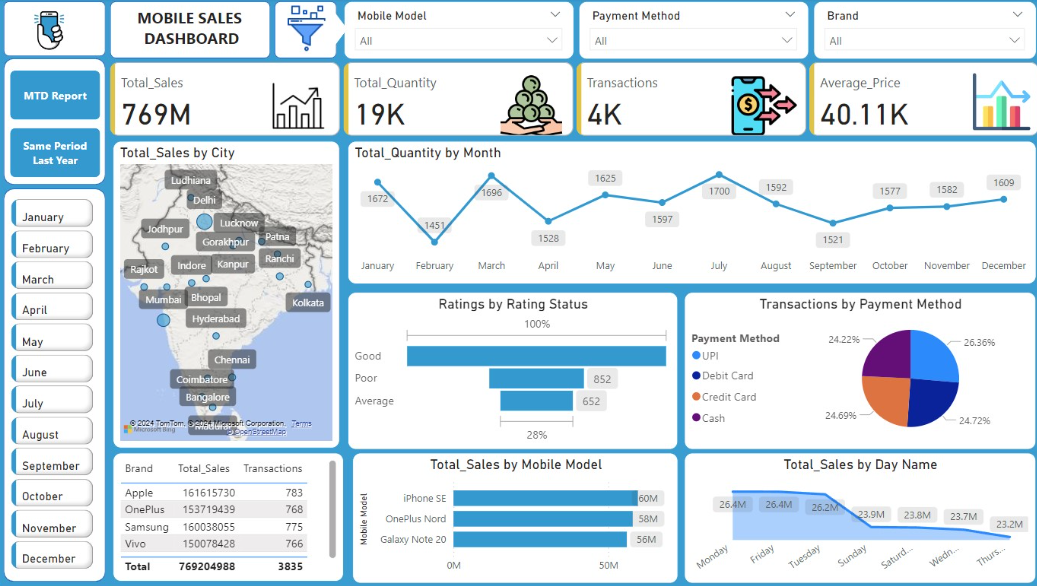

Layout of this report page (visuals, bound fields, positions):
{"tool":"powerbi","page":{"name":"Dashboard","canvas":[1280,720],"ordinal":0},"visuals":[{"type":"shape","box":[11,244.3,123.5,465.2],"z":0},{"type":"shape","box":[10.8,12.1,124.1,54],"z":1000},{"type":"image","box":[45.9,17.5,51.3,41.8],"z":2000},{"type":"shape","box":[11,65.9,123.5,178.4],"z":3000},{"type":"cardVisual","fields":{"Data":["Mobile sales data.Total revenue","Mobile sales data.Total quantity","Mobile sales data.Transaction","Mobile sales data.Average price"]},"box":[132.2,76.9,1148.1,116],"z":4000},{"type":"listSlicer","fields":{"Values":["calender dates.Date.Variation.Date Hierarchy.Month"]},"box":[12.4,256.8,120.3,440.4],"z":5000},{"type":"slicer","fields":{"Values":["Mobile sales data.Mobile Model"]},"box":[427.7,12.1,277.9,76.9],"z":6000},{"type":"slicer","fields":{"Values":["Mobile sales data.Payment Method"]},"box":[716.4,12.1,264.4,76.9],"z":7000},{"type":"slicer","fields":{"Values":["calender dates.Date.Variation.Date Hierarchy.Year","calender dates.Date.Variation.Date Hierarchy.Quarter","calender dates.Date.Variation.Date Hierarchy.Month","calender dates.Date.Variation.Date Hierarchy.Day"]},"box":[991.6,12.1,269.8,76.9],"z":8000},{"type":"textbox","box":[147,12.1,277.9,75.5],"z":9000},{"type":"map","fields":{"Category":["Mobile sales data.City"],"Size":["Sum(Mobile sales data.sales)"]},"box":[147,180.8,277.9,371],"z":10000},{"type":"tableEx","fields":{"Values":["Mobile sales data.Brand","Sum(Mobile sales data.sales)","Mobile sales data.Transaction"]},"box":[147.6,562,272.9,147.6],"z":11000},{"type":"pieChart","fields":{"Y":["Mobile sales data.Transaction"],"Category":["Mobile sales data.Payment Method"]},"box":[816.3,359.8,442.9,191],"z":12000},{"type":"clusteredBarChart","fields":{"Category":["Mobile sales data.Mobile Model"],"Y":["Sum(Mobile sales data.sales)"]},"box":[427.7,563,379.7,146.9],"z":13000},{"type":"areaChart","fields":{"Category":["Mobile sales data.Day Name.1"],"Y":["Sum(Mobile sales data.sales)"]},"box":[816.3,563.2,444.1,146.4],"z":14000},{"type":"funnel","title":"Ratings by Rating status","fields":{"Category":["Mobile sales data.Rating status"],"Y":["CountNonNull(Mobile sales data.Customer Ratings)"]},"box":[428,359.8,379.6,191],"z":15000},{"type":"lineChart","fields":{"Category":["calender dates.Date.Variation.Date Hierarchy.Month"],"Y":["Mobile sales data.Total quantity"]},"box":[425.5,181.1,834.9,168.7],"z":16000},{"type":"pageNavigator","box":[17.4,78.2,111.6,152.6],"z":16001}]}

Visuals, with their boxes in screenshot pixels (x1, y1, x2, y2), scaled from the page's 1280x720 canvas onto the 1037x586 screenshot:
shape: bbox=(9, 199, 109, 577)
shape: bbox=(9, 10, 109, 54)
image: bbox=(37, 14, 79, 48)
shape: bbox=(9, 54, 109, 199)
cardVisual - Mobile sales data.Total revenue x Mobile sales data.Total quantity: bbox=(107, 63, 1036, 157)
listSlicer - calender dates.Date.Variation.Date Hierarchy.Month: bbox=(10, 209, 108, 567)
slicer - Mobile sales data.Mobile Model: bbox=(347, 10, 572, 72)
slicer - Mobile sales data.Payment Method: bbox=(580, 10, 795, 72)
slicer - calender dates.Date.Variation.Date Hierarchy.Year x calender dates.Date.Variation.Date Hierarchy.Quarter: bbox=(803, 10, 1022, 72)
textbox: bbox=(119, 10, 344, 71)
map - Mobile sales data.City x Sum(Mobile sales data.sales): bbox=(119, 147, 344, 449)
tableEx - Mobile sales data.Brand x Sum(Mobile sales data.sales): bbox=(120, 457, 341, 578)
pieChart - Mobile sales data.Transaction x Mobile sales data.Payment Method: bbox=(661, 293, 1020, 448)
clusteredBarChart - Mobile sales data.Mobile Model x Sum(Mobile sales data.sales): bbox=(347, 458, 654, 578)
areaChart - Mobile sales data.Day Name.1 x Sum(Mobile sales data.sales): bbox=(661, 458, 1021, 578)
"Ratings by Rating status" funnel: bbox=(347, 293, 654, 448)
lineChart - calender dates.Date.Variation.Date Hierarchy.Month x Mobile sales data.Total quantity: bbox=(345, 147, 1021, 285)
pageNavigator: bbox=(14, 64, 105, 188)
